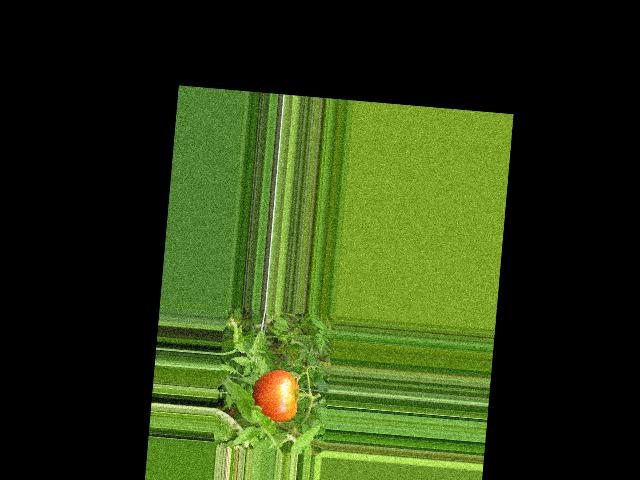tomato: (251, 368, 301, 422)
